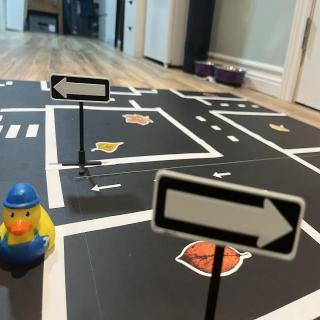duck_specialty: (1, 180, 59, 266)
road_crosswalk: (1, 120, 43, 142)
road_oneway: (90, 182, 126, 194), (211, 169, 235, 181)
sign_oneway_left: (51, 75, 114, 107)
sign_oneway_right: (150, 170, 309, 266)
